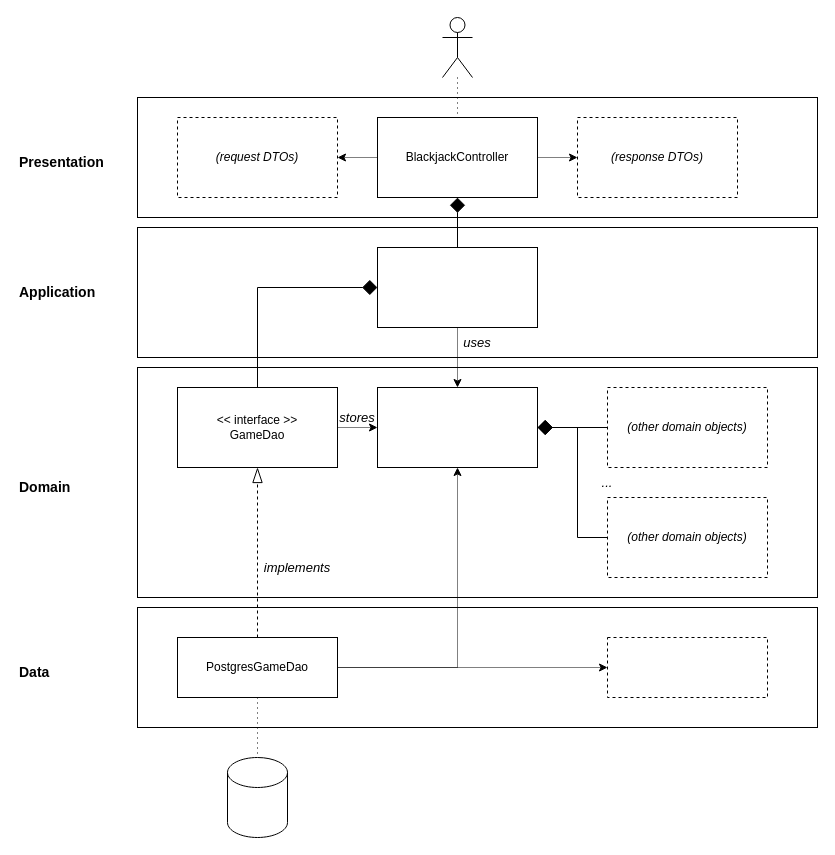
Image size: 835x855. Some labels were removed from this diagram. The shapes that lost their labels are listed below. From the top down, each one's box as (x1, y1, x2, y2) in pixels, then its label:
(376, 246, 538, 328): BlackjackService
(376, 386, 538, 468): Game
(606, 636, 768, 698): (hibernate entity / entities)
